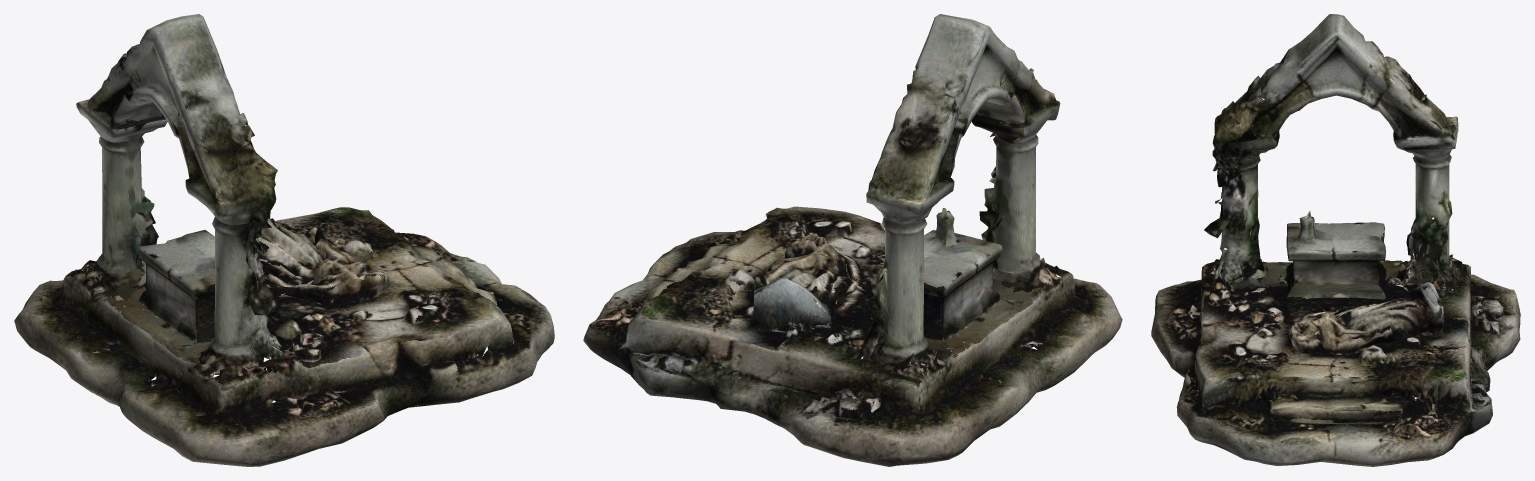
Rendered from ravaged-shrine.glb.
The picture shows the model from 3 angles, left to right: view 1: azimuth 30°, elevation 25°; view 2: azimuth 150°, elevation 25°; view 3: azimuth 270°, elevation 25°; orthographic projection. The views are drawn at different scales.
Parts seen in each view (by area): view 1: ravaged-shrine.glb; view 2: ravaged-shrine.glb; view 3: ravaged-shrine.glb.
Part boxes in pixels (box(x1,y1,x2,y2)): ravaged-shrine.glb: box(14, 14, 554, 466); ravaged-shrine.glb: box(583, 14, 1122, 466); ravaged-shrine.glb: box(1151, 14, 1520, 466).
Bounding box in the file's own units: 1 × 0.852 × 0.912.
Materials: 1 (1 with a texture image).
